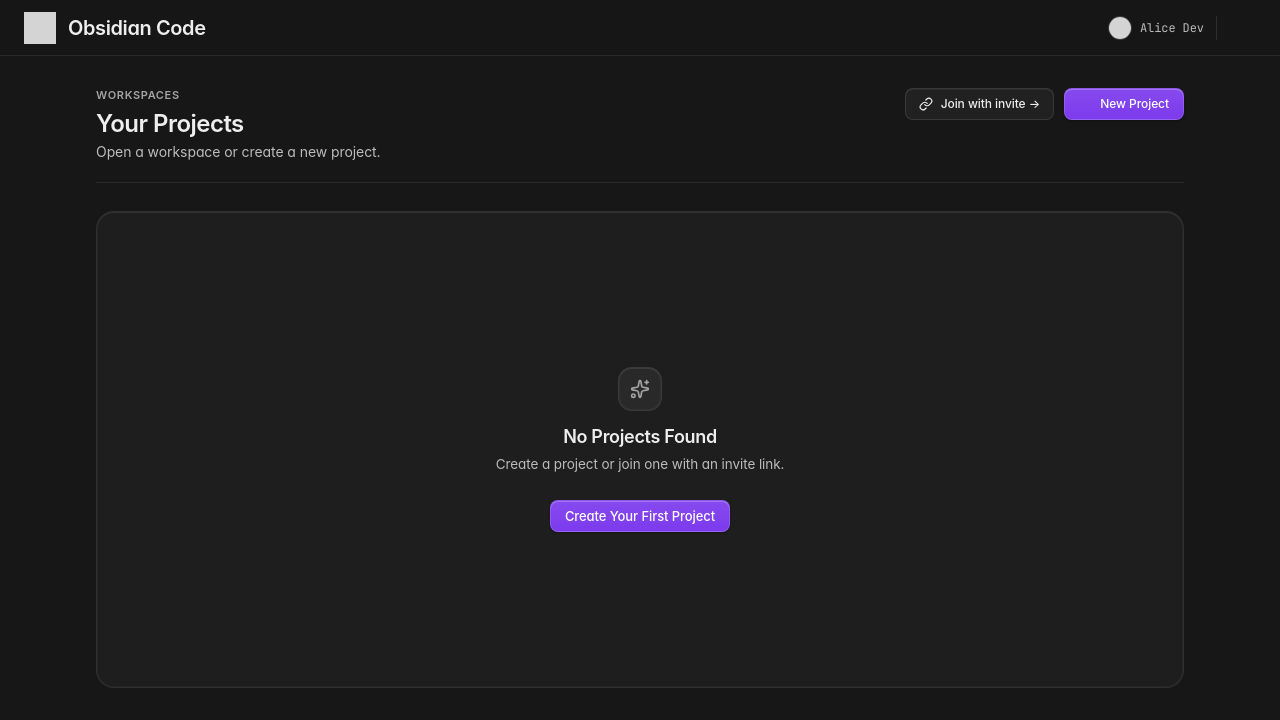
Test case: AuthPage, Dashboard, App Routing & UI Primitives Button/Feature Interactions › Dashboard Buttons, Modals, Filter & Cards › creates a project with selected template, validates empty name, and opens project
This screenshot has width=1280, height=720.
Later steps or results of the test are not shown.
# Empty state CTA opens Create modal
Click the button "Create Your First Project" at (640, 516), box [550, 500, 730, 532]
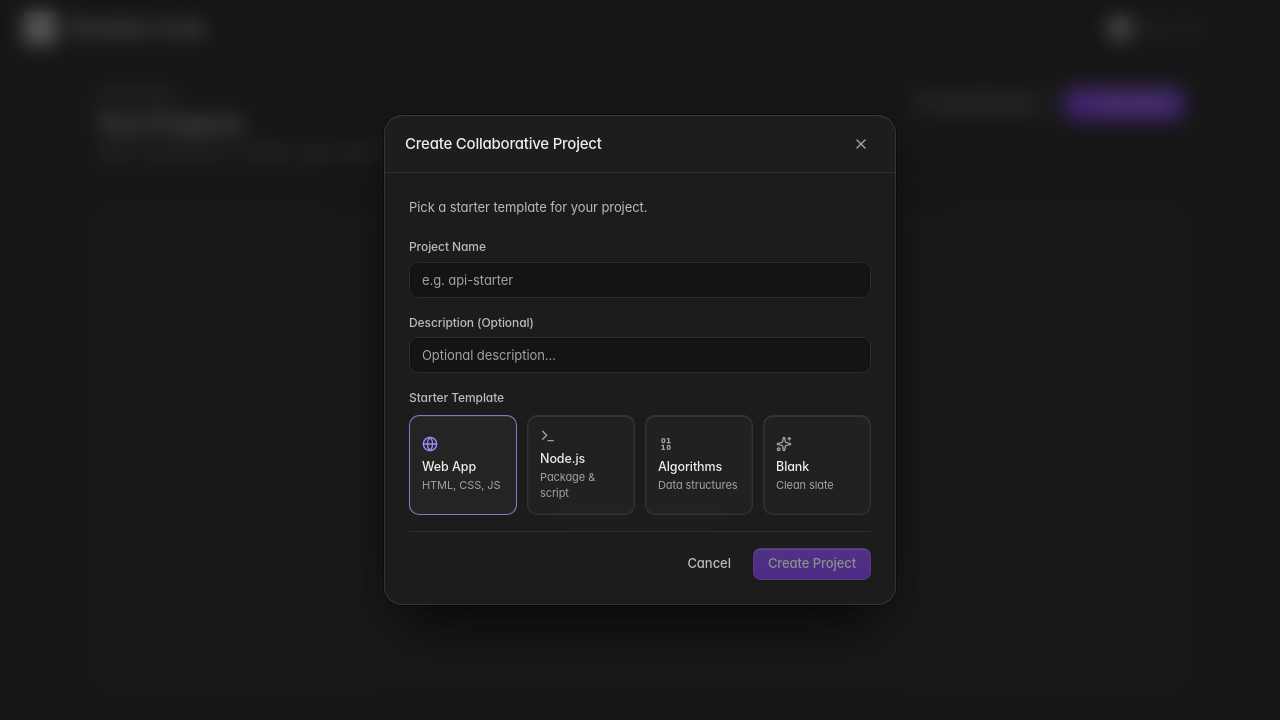
Now the button "Create Project" is disabled, box [753, 548, 871, 580]
# Click template buttons
Click the button "Node.js Package & script" at (581, 465), box [527, 415, 635, 515]
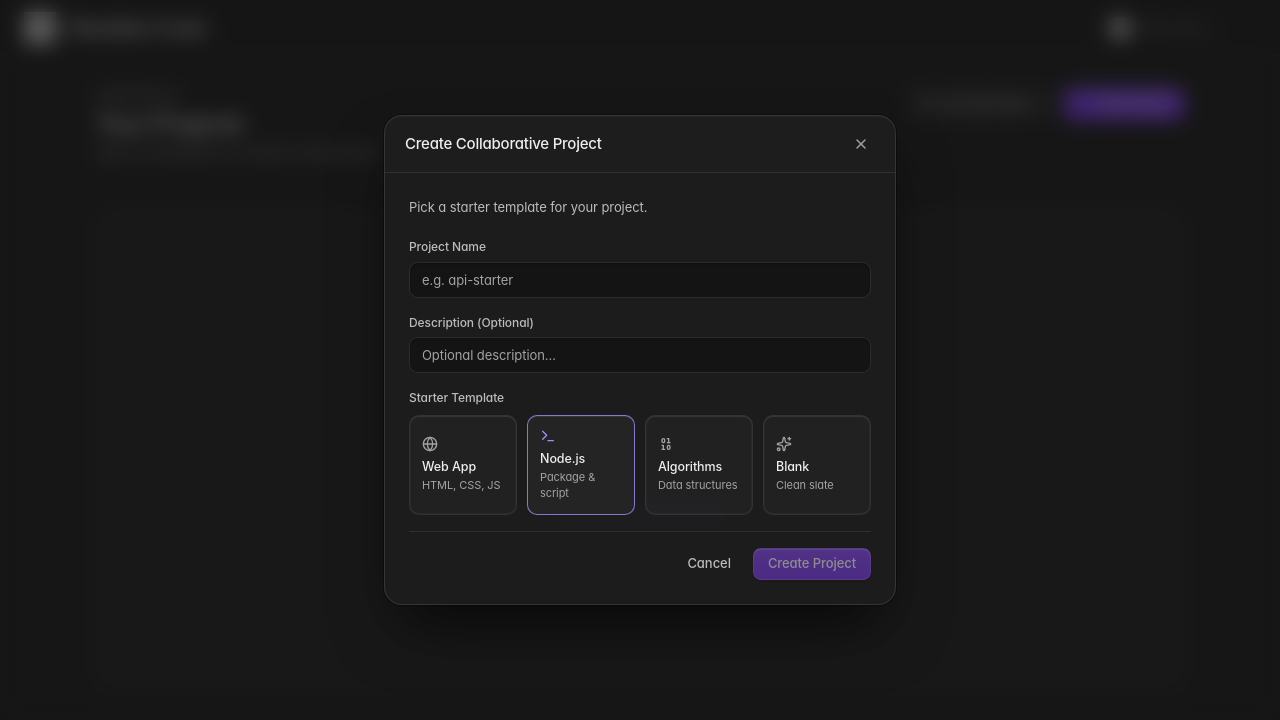
Now the button "Node.js Package & script" is pressed, box [527, 415, 635, 515]
Type " My Node Service " into the field labelled "Project Name" at (640, 280), box [409, 262, 871, 298]
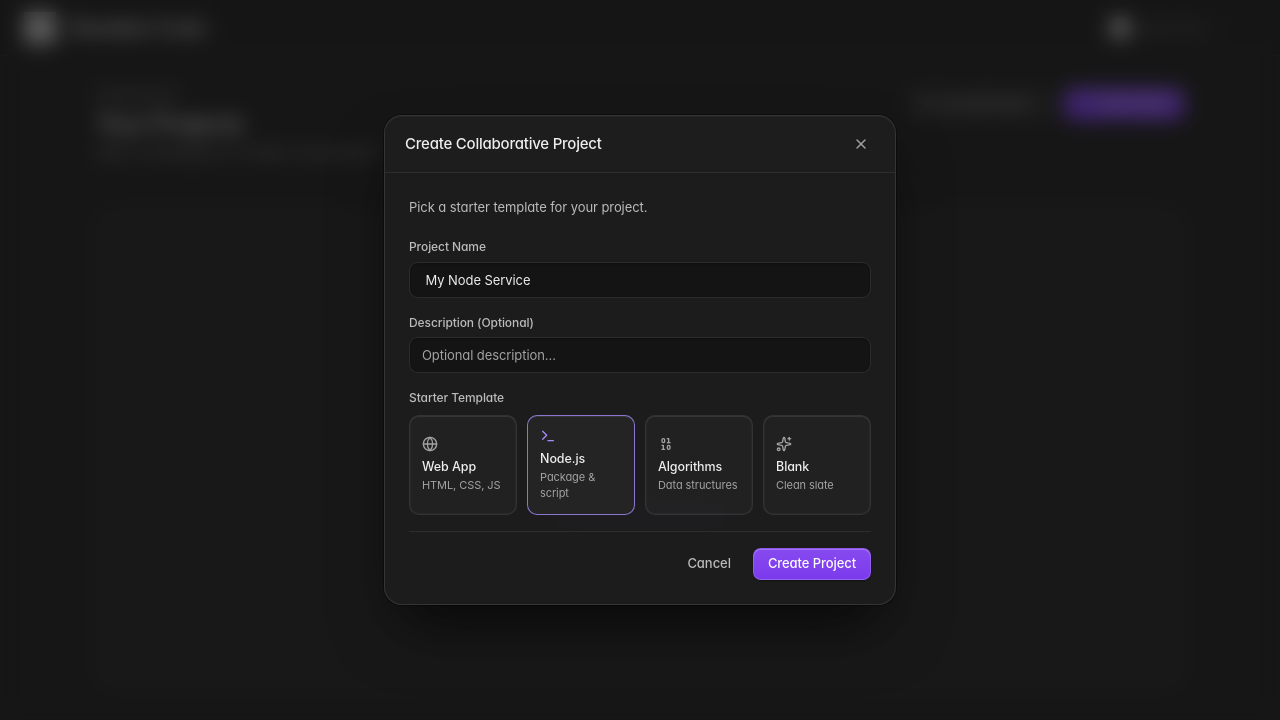
Type "Backend API" into the field labelled "Description (Optional)" at (640, 355), box [409, 337, 871, 373]
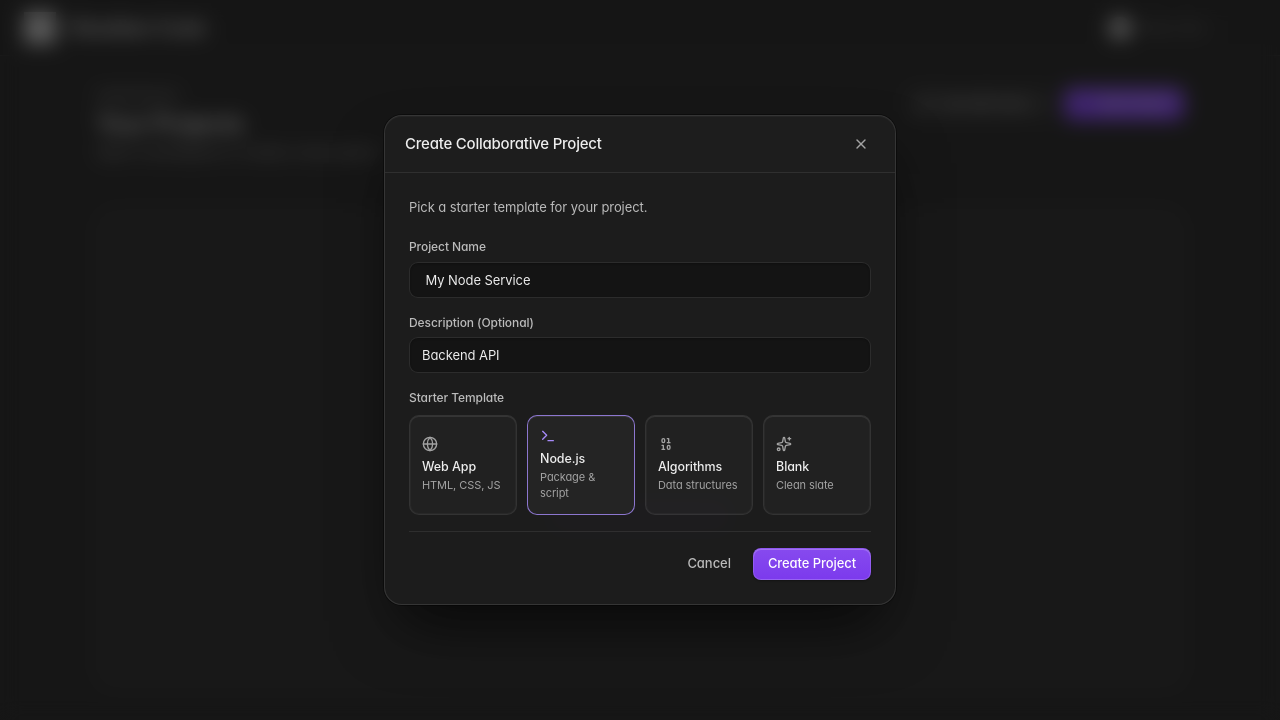
Now the button "Create Project" is enabled, box [753, 548, 871, 580]
